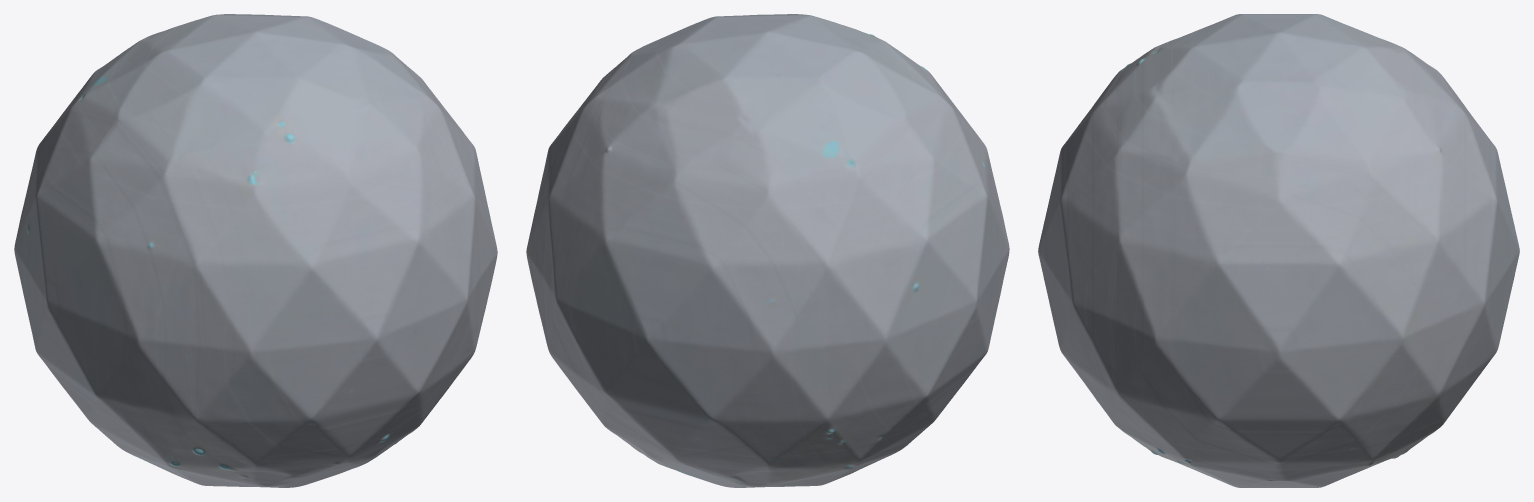
File: detailed_realistic_model_crystalball_03.glb
The picture shows the model from 3 angles, left to right: view 1: azimuth 30°, elevation 25°; view 2: azimuth 150°, elevation 25°; view 3: azimuth 270°, elevation 25°; orthographic projection.
Parts seen in each view (by area): view 1: tripo_node_8c86e4b5-3354-4a8c-a88b-21e90edad0d9; view 2: tripo_node_8c86e4b5-3354-4a8c-a88b-21e90edad0d9; view 3: tripo_node_8c86e4b5-3354-4a8c-a88b-21e90edad0d9.
Boxes of the visible parts, left/top/right/bottom form: tripo_node_8c86e4b5-3354-4a8c-a88b-21e90edad0d9: left=14, top=14, right=497, bottom=487; tripo_node_8c86e4b5-3354-4a8c-a88b-21e90edad0d9: left=526, top=14, right=1009, bottom=487; tripo_node_8c86e4b5-3354-4a8c-a88b-21e90edad0d9: left=1038, top=14, right=1519, bottom=487.
Size of the model in its own units: 0.9976 by 0.9992 by 1.
1 material, 1 textured.
